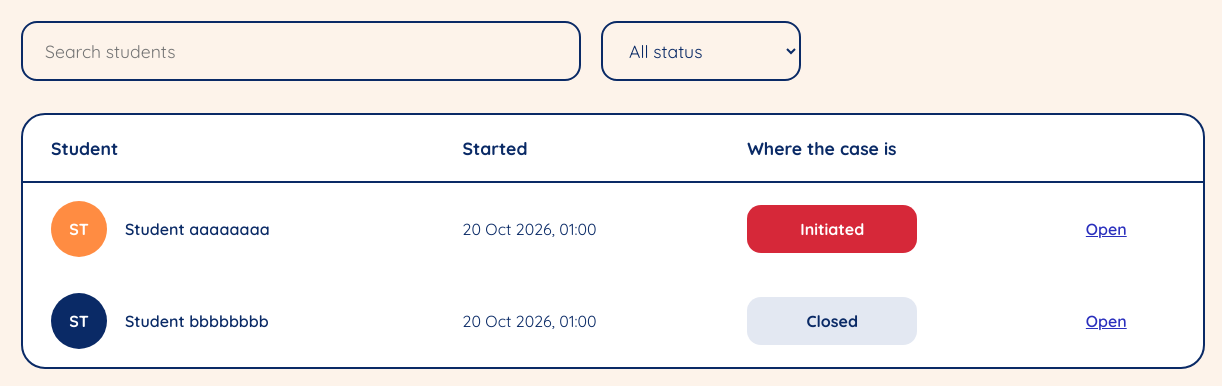
Scenario: CasesTable › filters by the search box
Type "bbbbbbbb" into the search field labelled "Search students".
click(301, 51); type("bbbbbbbb")  # box [21,21,581,81]
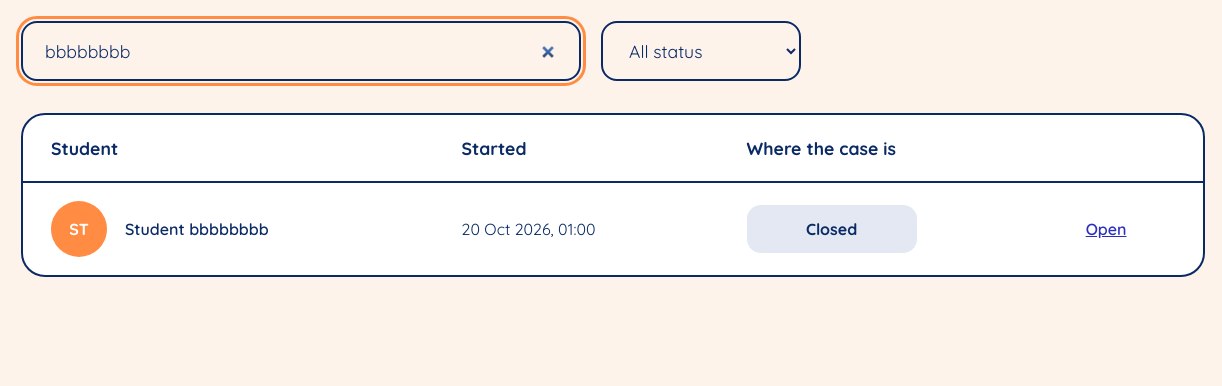
Now the number of rows is 2, box [23,115,1203,182]; [23,182,1203,275]
